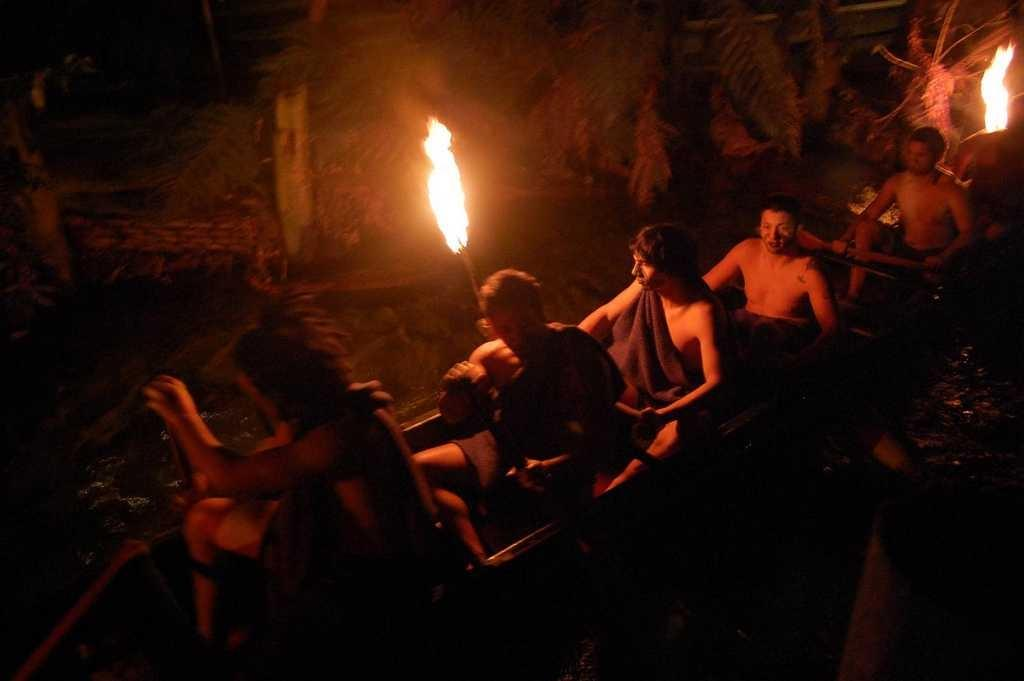fire: (418, 116, 476, 281), (960, 30, 1024, 141)
